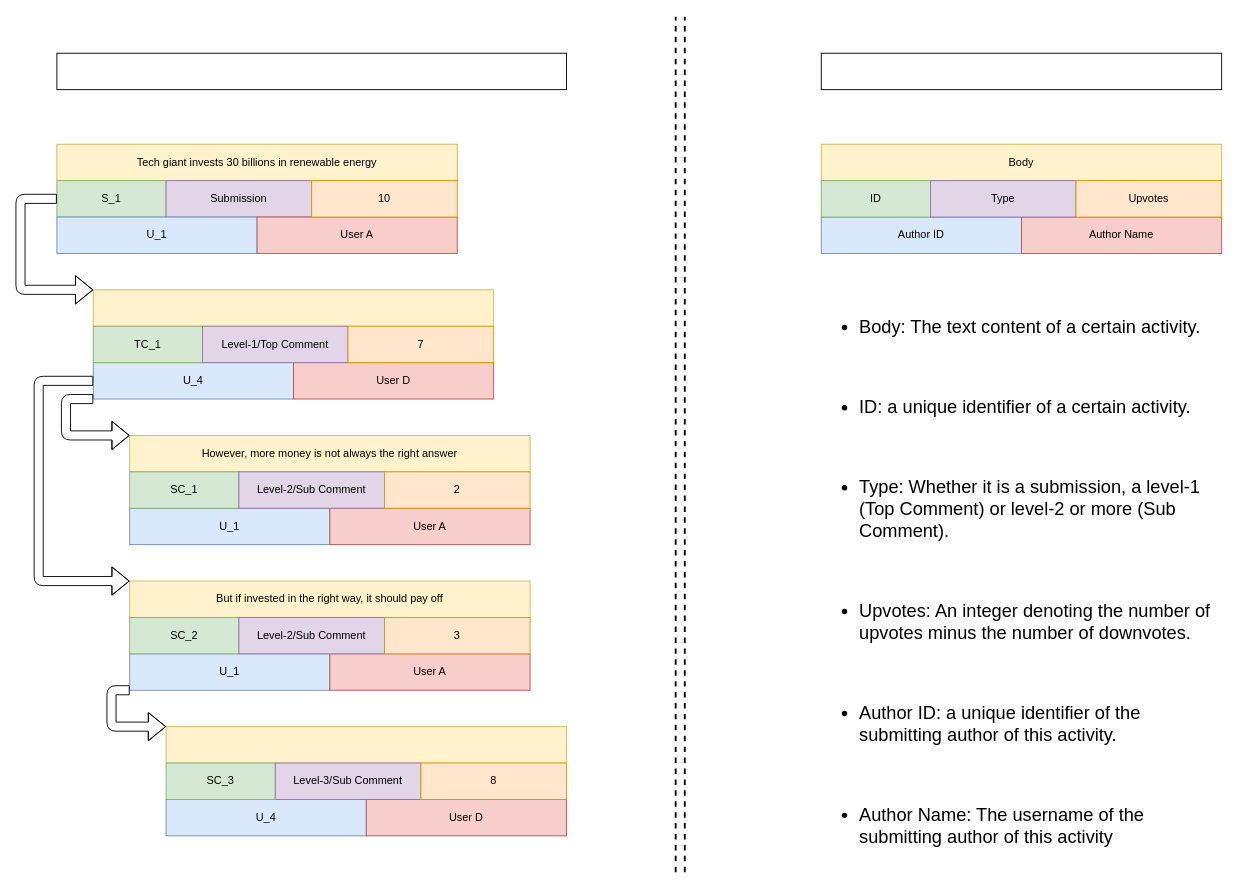
Some shapes in this 1238 by 889 pixel diagram are drawn without their labels. The centre of each missing label's shape, as x and y in pixels:
"Activity Template" belongs at (x=1021, y=71).
"Activity Thread Example" belongs at (x=311, y=71).
"Great News!" belongs at (x=293, y=307).
"I fully agree" belongs at (x=365, y=744).
